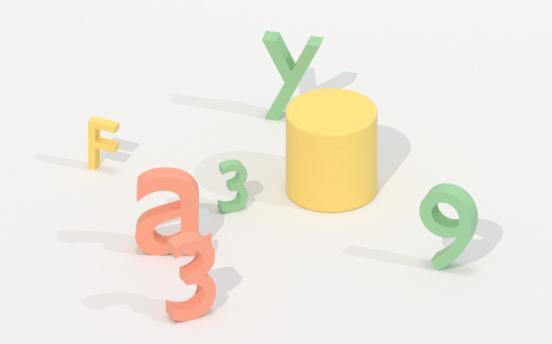chu_khoi: (135, 167, 198, 255), (263, 31, 322, 119), (88, 116, 118, 169)
so_khoi: (419, 183, 477, 269), (166, 232, 215, 320), (218, 160, 248, 212)
tru: (285, 88, 377, 211)
